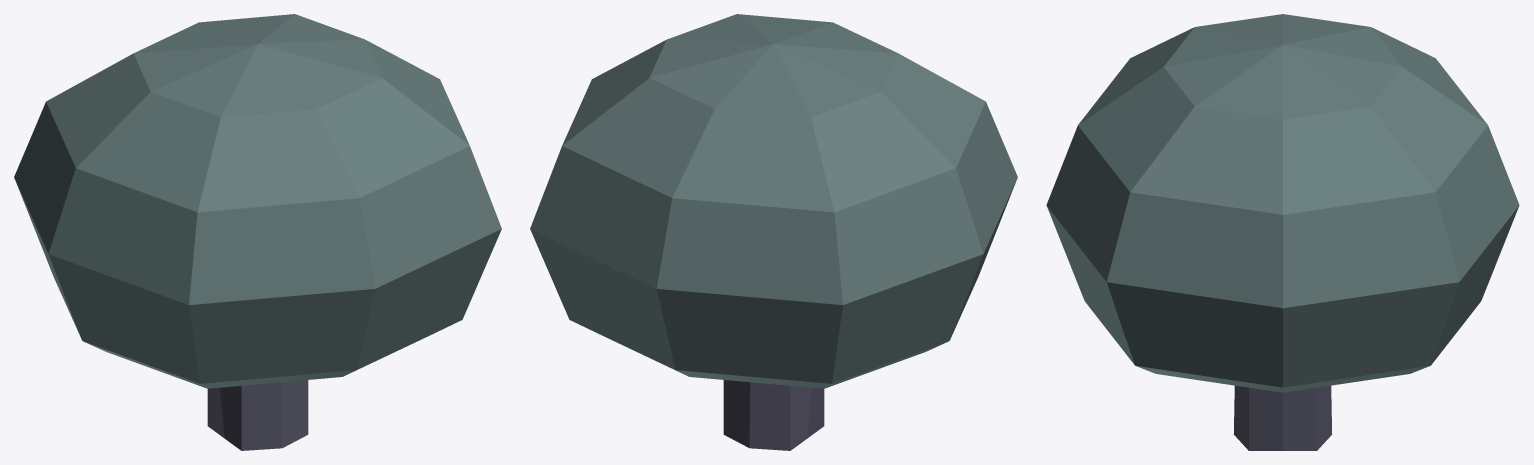
File: shrub.fbx
3 views of the same model, side by side, from view 1: azimuth 30°, elevation 25°; view 2: azimuth 150°, elevation 25°; view 3: azimuth 270°, elevation 25° (orthographic).
Parts seen in each view (by area): view 1: leaves3, trunk3; view 2: leaves3, trunk3; view 3: leaves3, trunk3.
Part boxes in pixels (box(x1,y1,x2,y2)): leaves3: box(14, 14, 501, 388); trunk3: box(207, 380, 308, 450); leaves3: box(530, 14, 1017, 388); trunk3: box(723, 380, 824, 450); leaves3: box(1046, 14, 1519, 392); trunk3: box(1233, 385, 1332, 450).
Size of the model in its own units: 103 by 90.91 by 100.
